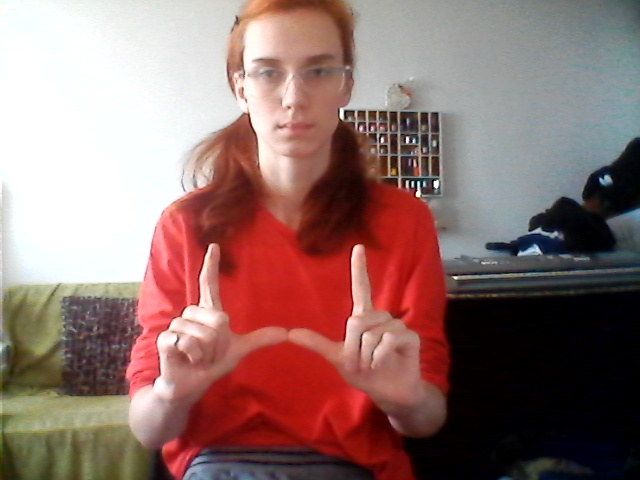u: (151, 239, 431, 412)
